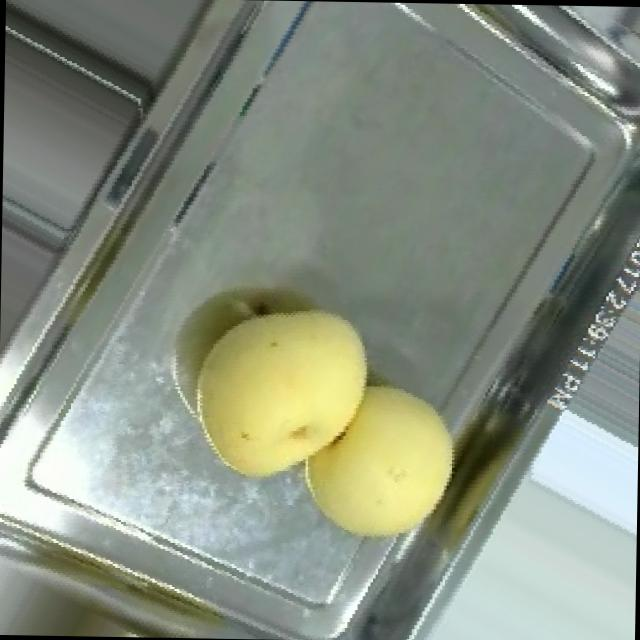Fruit: (164, 258, 406, 506), (286, 353, 478, 562)
